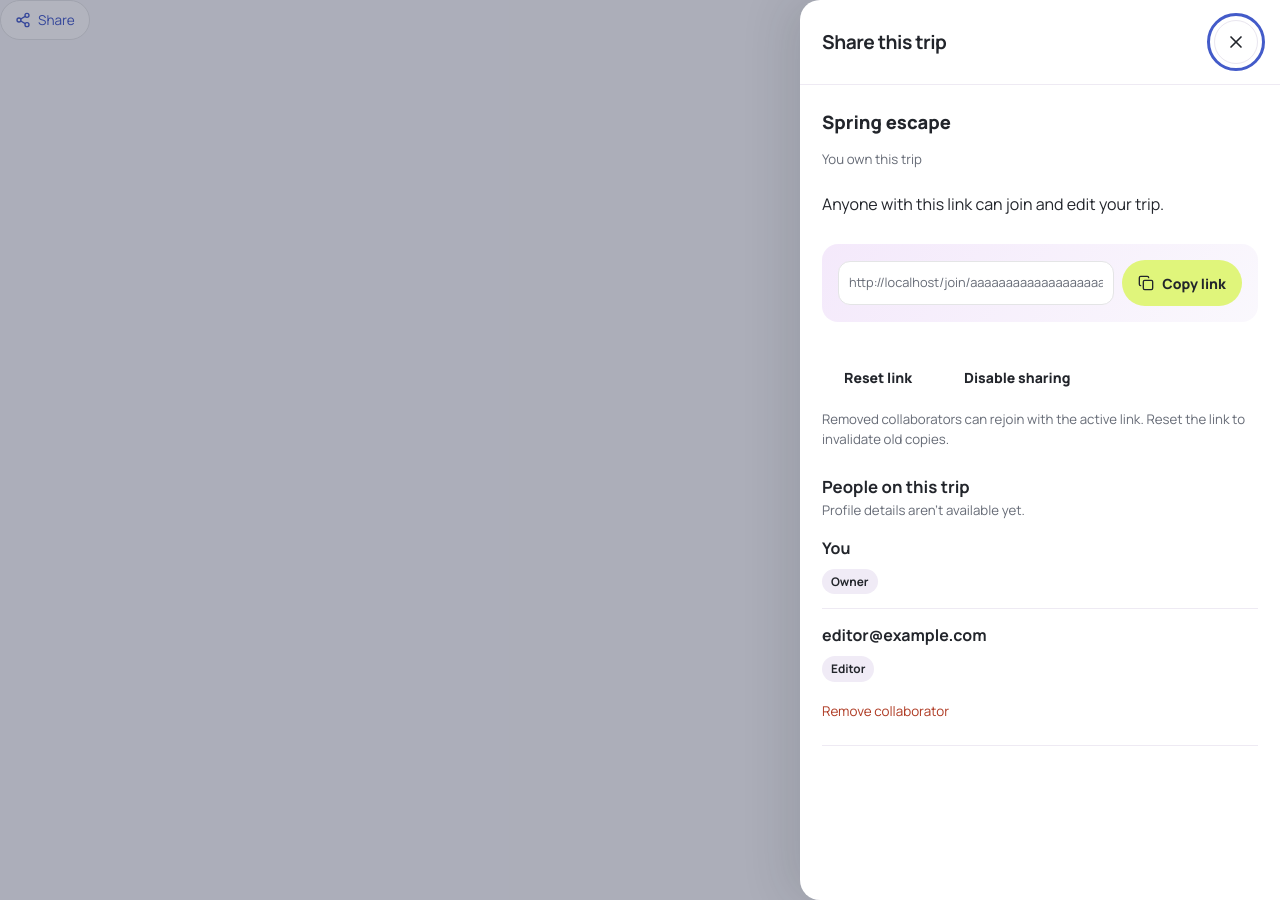
Test case: confirms removal and warns about rejoining; reset and disable carry current link revision
The image size is (1280, 900).
Click the button "Remove collaborator" at (886, 711), box x1=822 y1=691 x2=949 y2=731
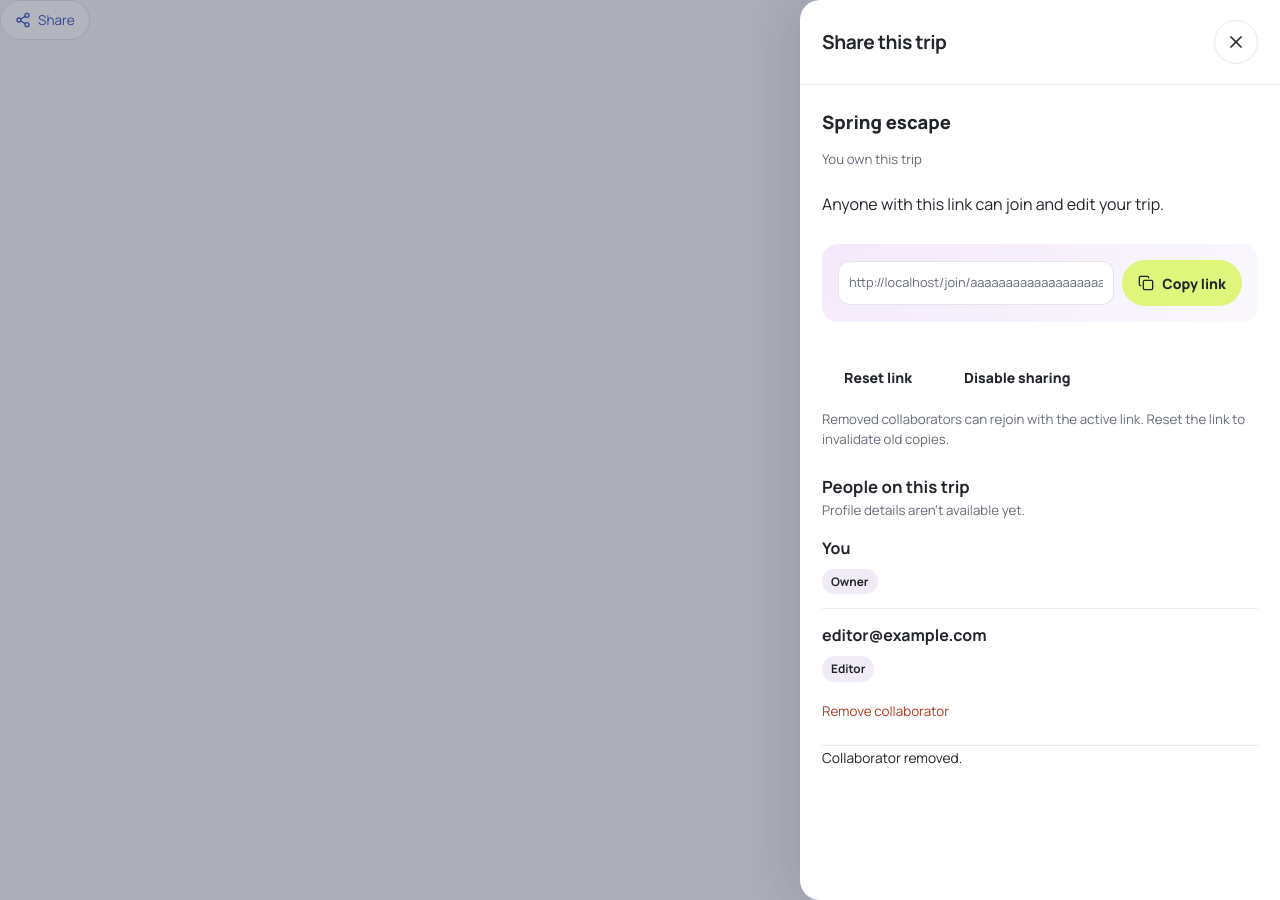
Click the button "Disable sharing" at (1017, 377), box x1=942 y1=354 x2=1092 y2=400
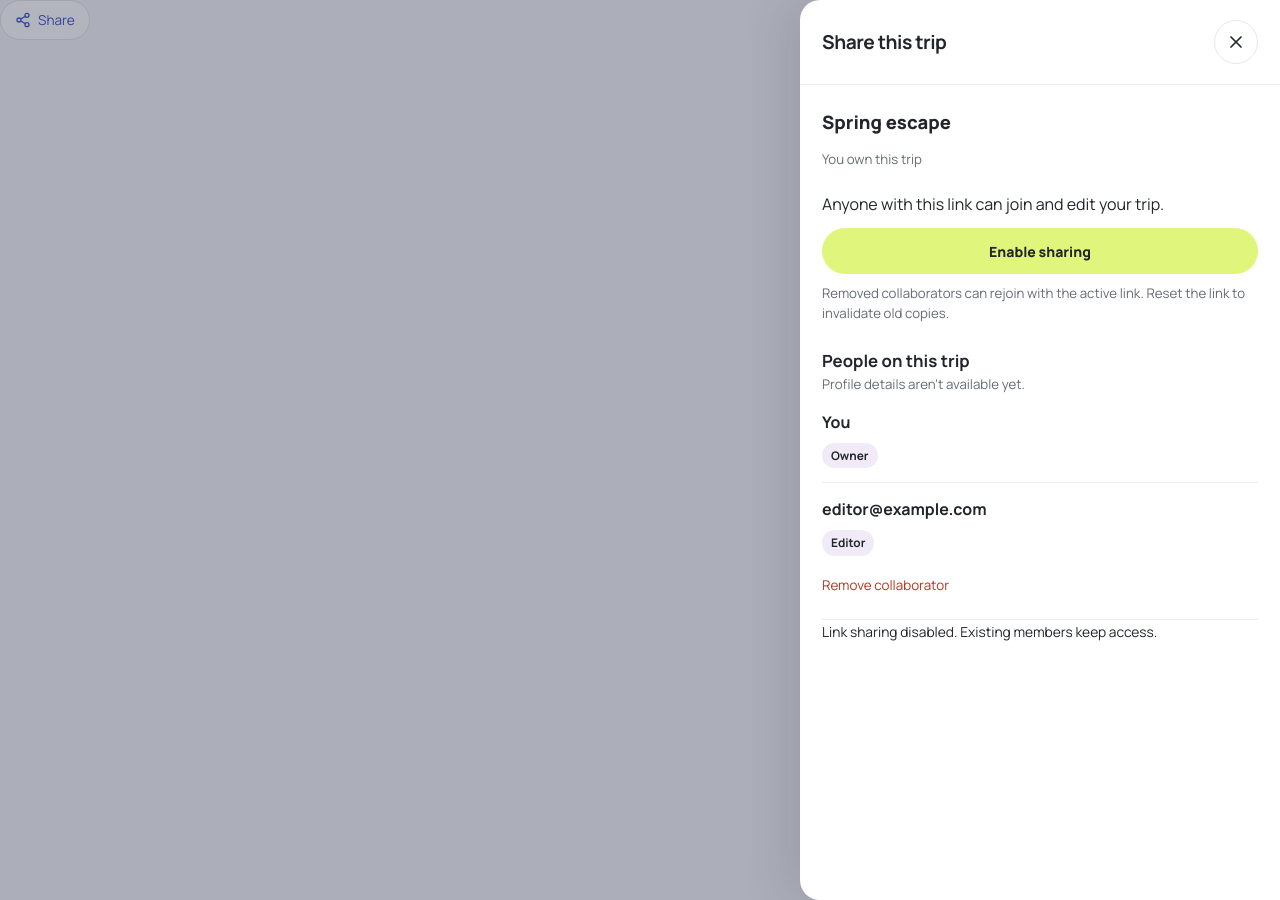
Now the button "Copy link" is gone
